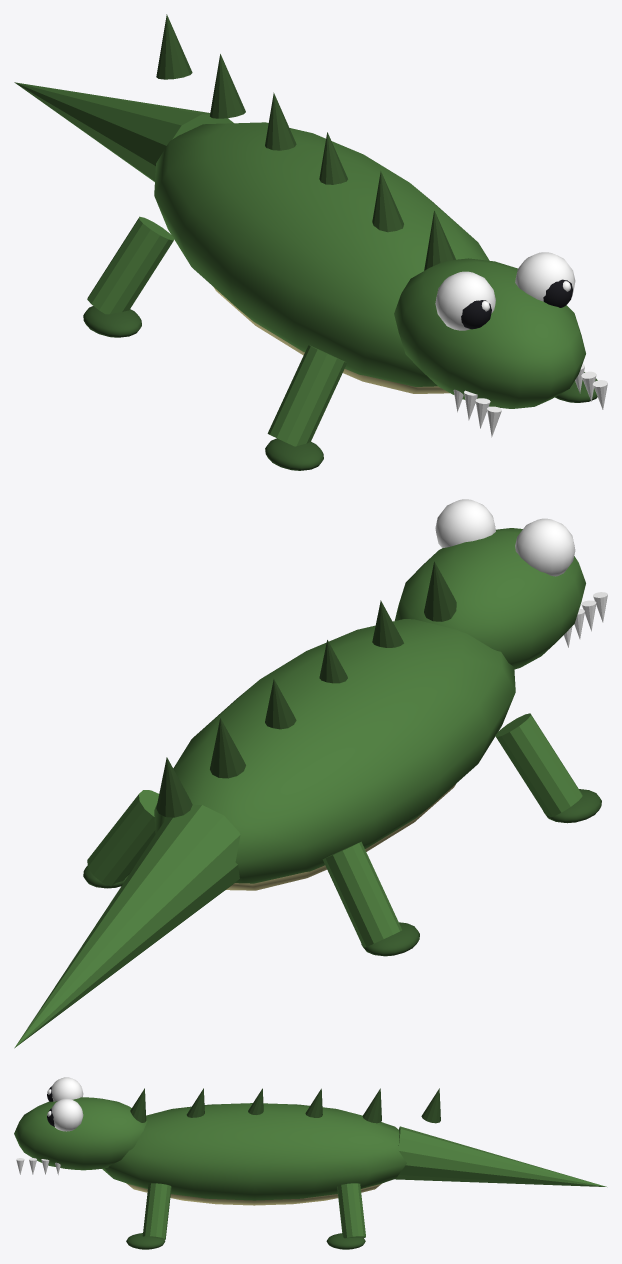
3 renders of one model, top to bottom at view 1: azimuth 30°, elevation 25°; view 2: azimuth 150°, elevation 25°; view 3: azimuth 270°, elevation 25°, orthographic. The views are drawn at different scales.
Visible parts, largest first — view 1: Crocodile; view 2: Crocodile; view 3: Crocodile.
Part boxes in pixels (bbox=[...]): Crocodile: bbox=[14, 14, 607, 470]; Crocodile: bbox=[14, 499, 607, 1048]; Crocodile: bbox=[14, 1077, 606, 1249].
Size of the model in its own units: 2.46 by 1.59 by 7.05.
Materials: 1 (1 with a texture image).
